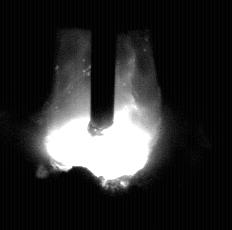arame: (91, 0, 116, 136)
poca: (44, 0, 160, 230)
